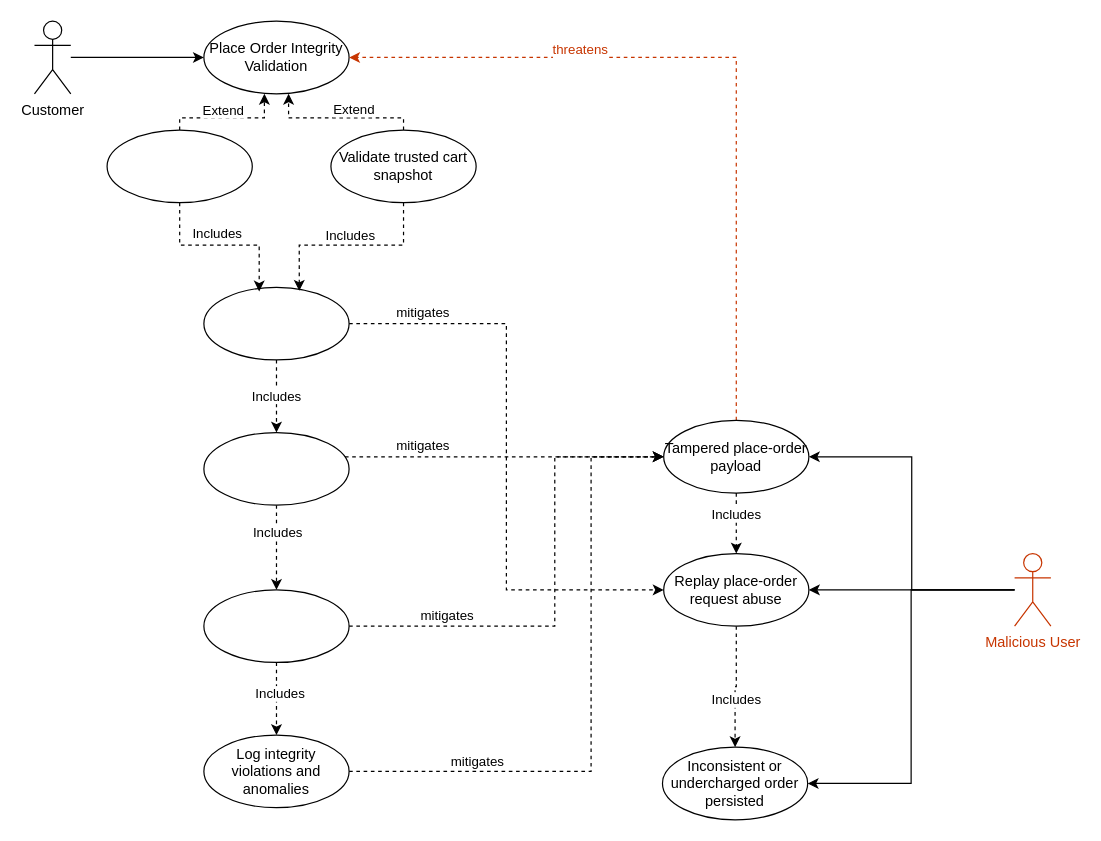
Some shapes in this 1101 by 841 pixel diagram are drawn without their labels. Each missing label, with the centre of its shape:
"Create tamper-evident financial audit log" belongs at (276,468).
"Integrity verification before commit" belongs at (276,625).
"Recompute totals server-side" belongs at (179,166).
"Reject client-provided price/total fields" belongs at (276,323).
